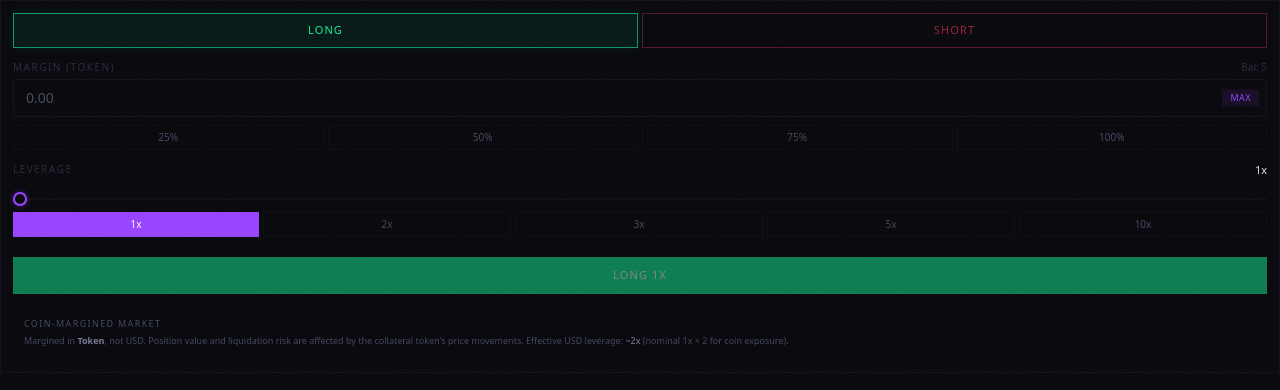
Test: TradeForm Component Tests › TRADE-006: MAX button uses full balance › should populate input with full balance when MAX is clicked
Click the button "Max": click(1241, 98) [1222,89,1259,106]
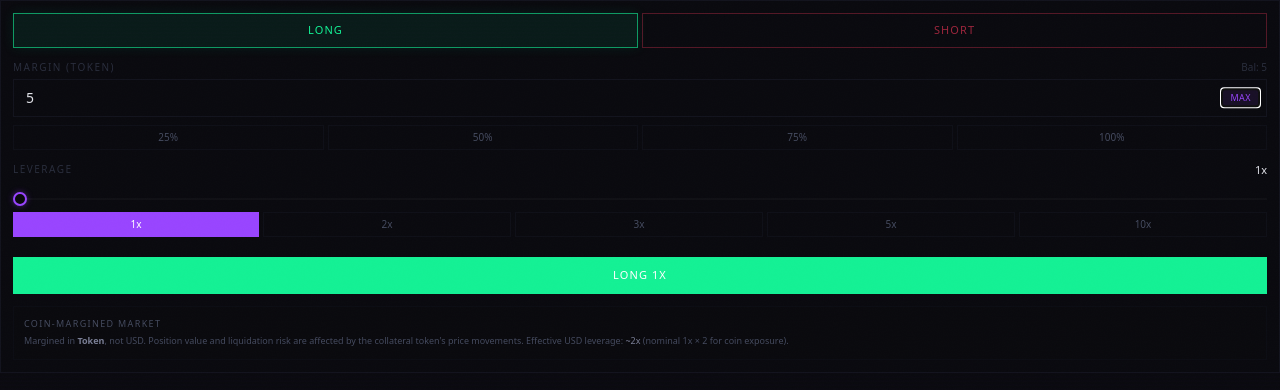
Check: the field with placeholder "0.00" holds "5", box [13,78,1267,116]
